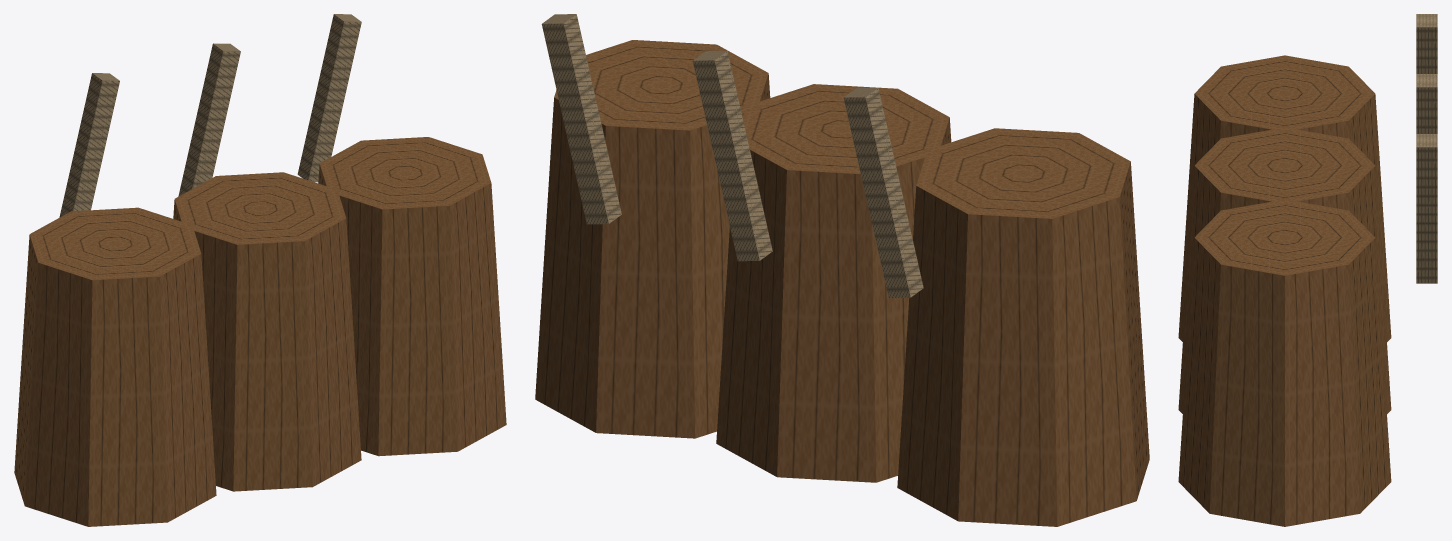
Rendered from military-INFERNO_SEED-1-lod2.glb.
3 renders of one model, left to right at view 1: azimuth 30°, elevation 25°; view 2: azimuth 150°, elevation 25°; view 3: azimuth 270°, elevation 25°, orthographic. The views are drawn at different scales.
Bounding box in the file's own units: 0.39 × 0.2718 × 0.1825.
1 material, 1 textured.
